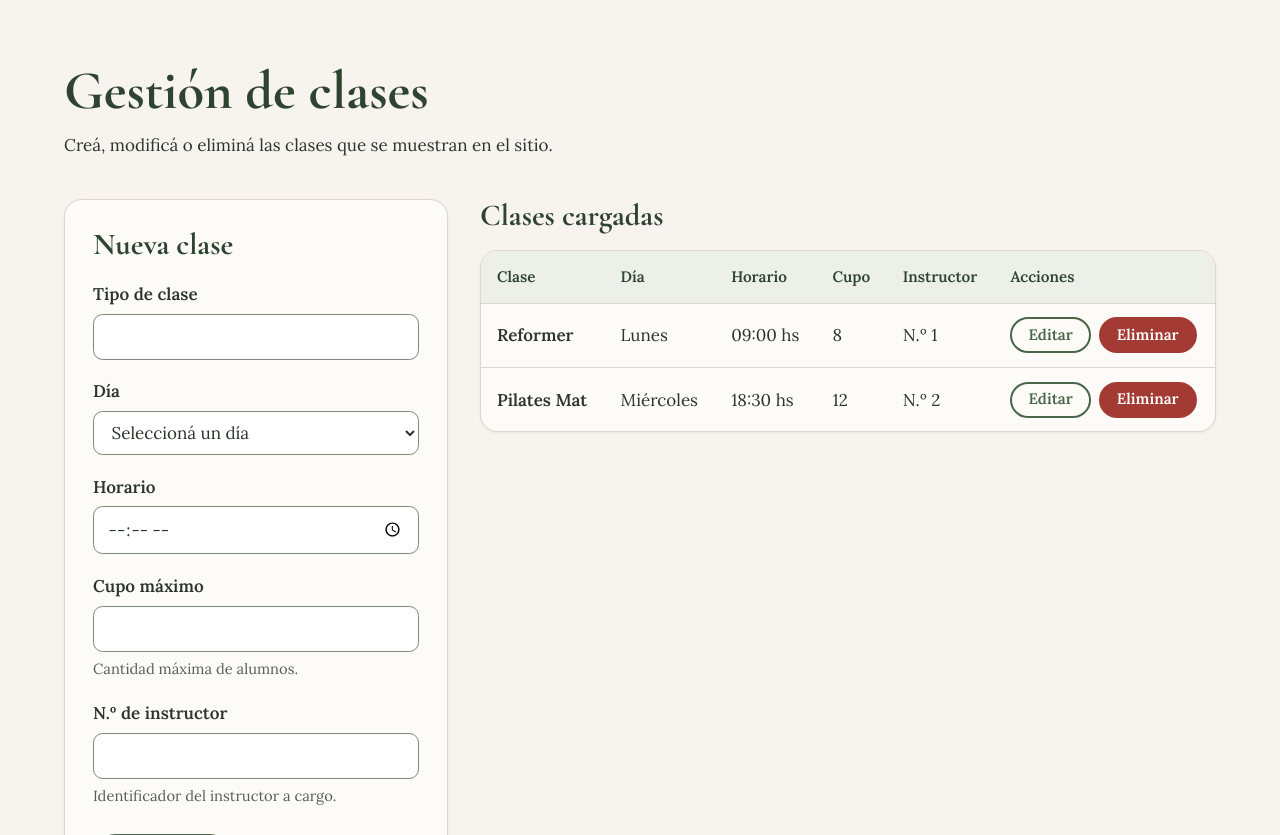
Test: AdminClasesPage › edita una clase existente con el formulario precargado
Expected: the table is shown, left=481, top=251, right=1215, bottom=431
Click the button with aria-label "Editar Reformer". click: (1051, 335)
box: left=1010, top=317, right=1091, bottom=353
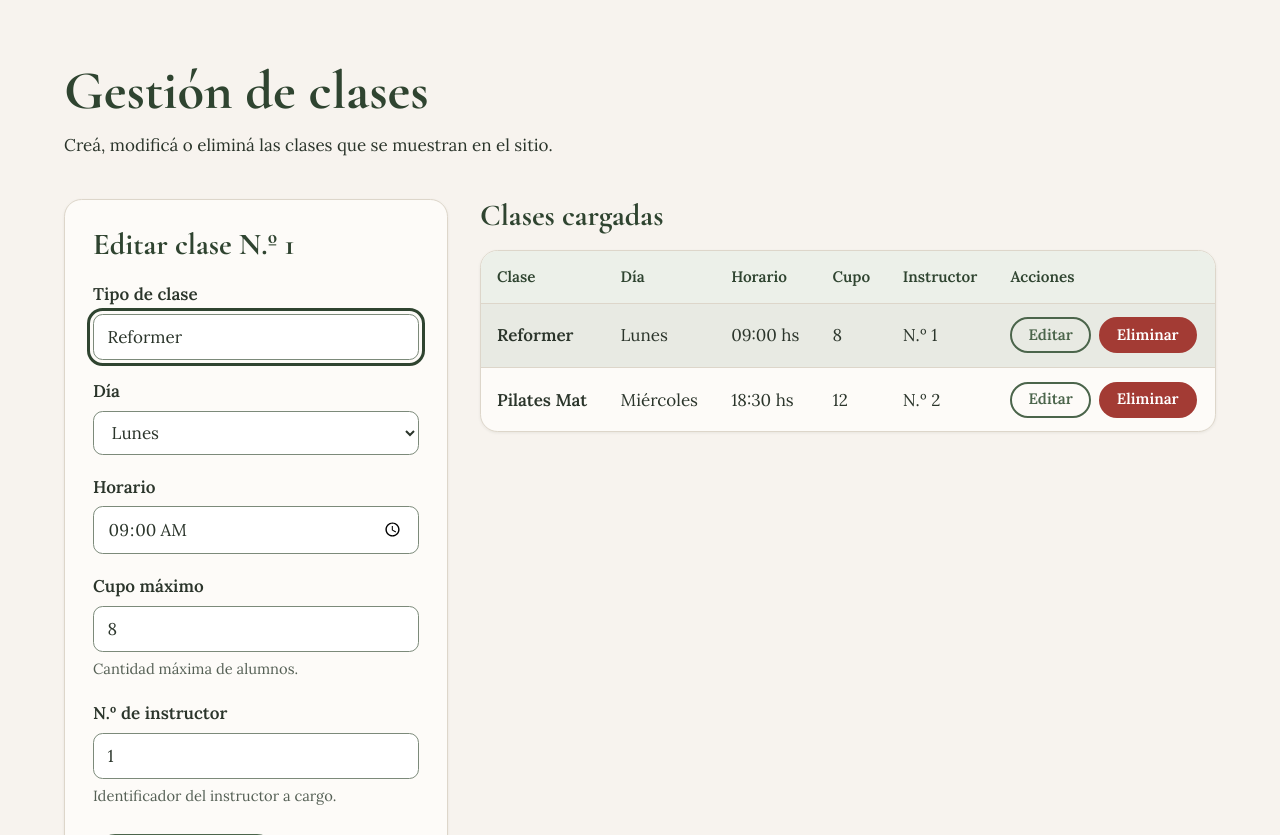
Result: the heading "Editar clase N.º 1" is shown at left=93, top=226, right=294, bottom=263
Result: the field labelled "Tipo de clase" holds "Reformer" at left=93, top=314, right=419, bottom=360
Replace the text in the number field labelled "Cupo máximo" with "14". click: (256, 629)
box: left=93, top=606, right=419, bottom=652
(page scrolled)
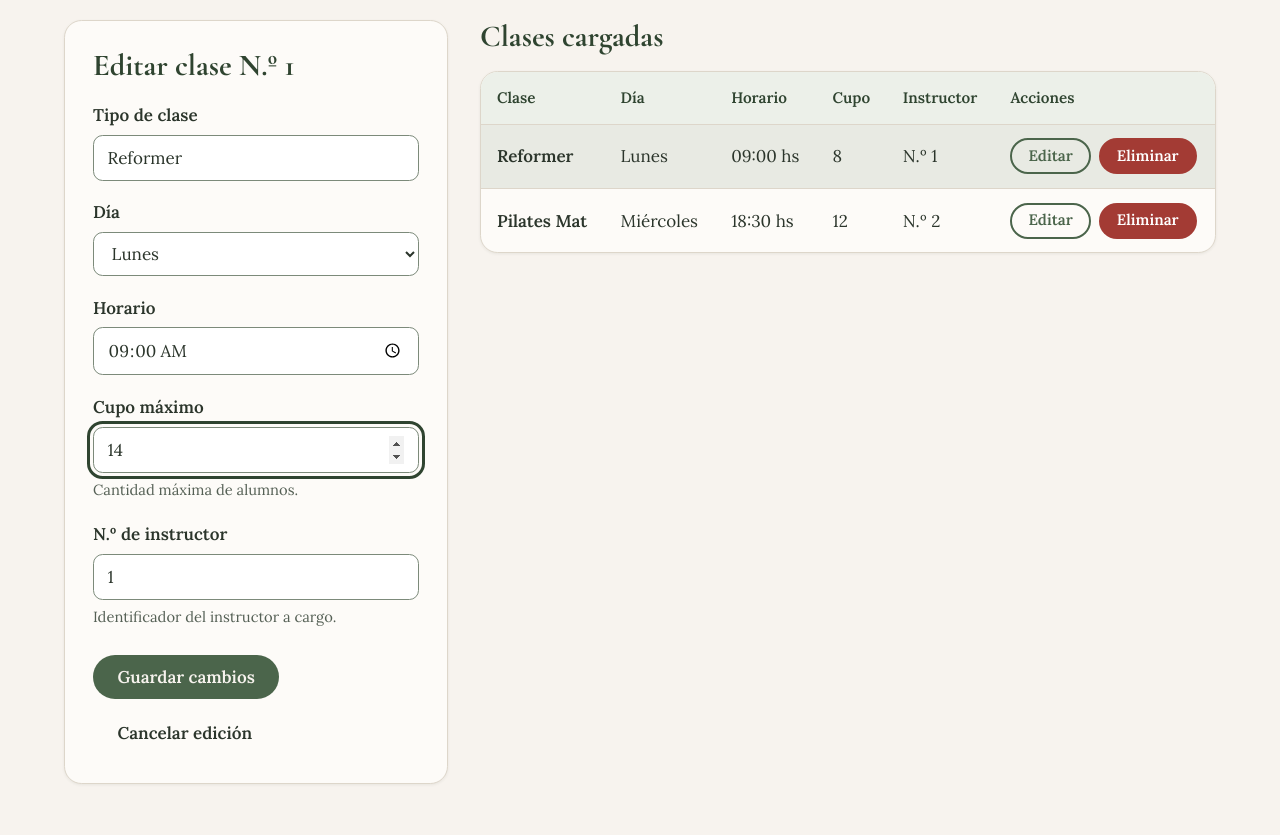
Click the button "Guardar cambios". click: (186, 677)
box: left=93, top=655, right=279, bottom=699
(page scrolled)
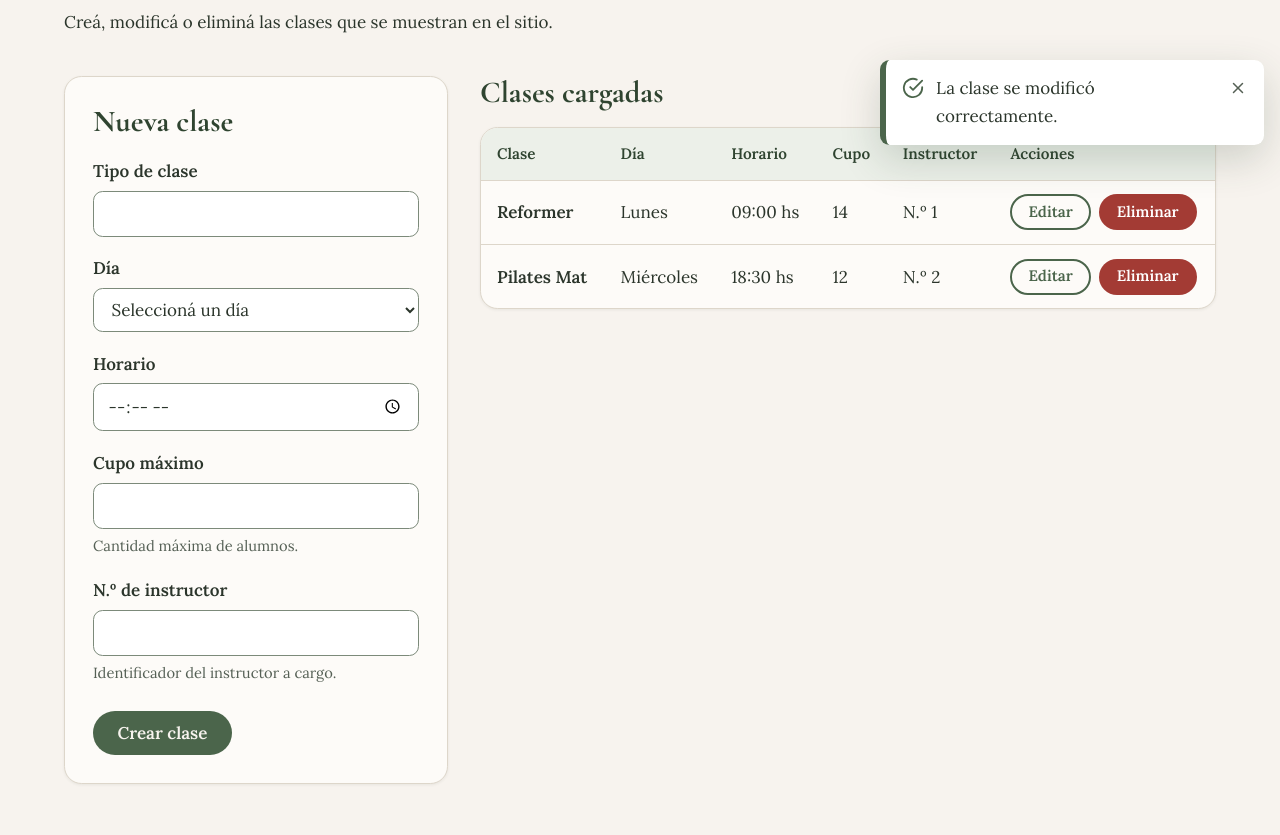
Result: the text "La clase se modificó correctamente." is shown at left=936, top=77, right=1095, bottom=127
Result: the heading "Nueva clase" is shown at left=93, top=103, right=233, bottom=140
